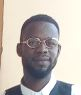without_facemask: (23, 49, 57, 73)
